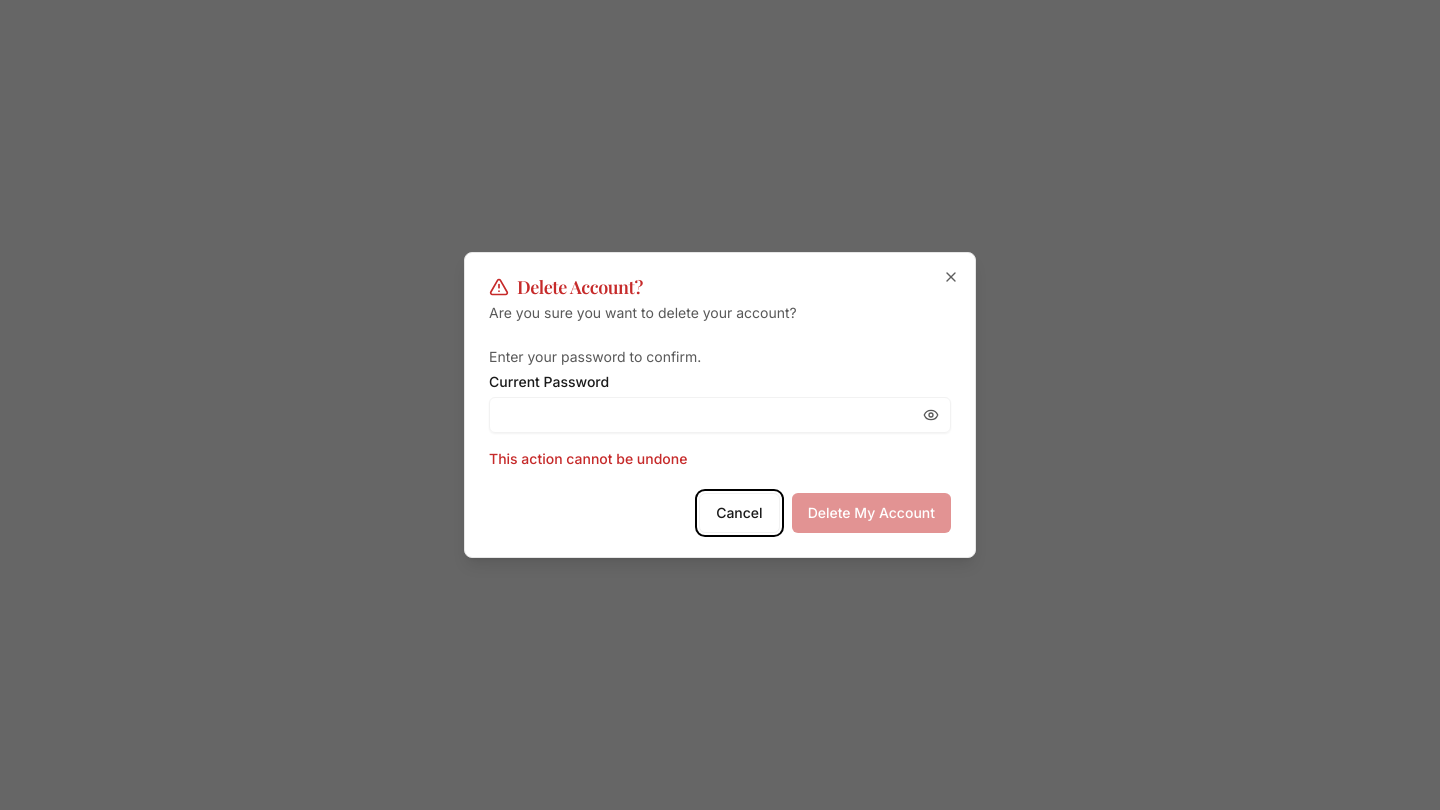
Test case: DeleteAccountDialog › shows the translated line for a refused deletion ({"status":422,"code":"invalid_project_disposition","kind":"client","name":"HttpError"})
This screenshot has width=1440, height=810.
Type "my-password" into the password field labelled "Current Password" at (720, 415), box [489,397,951,433]
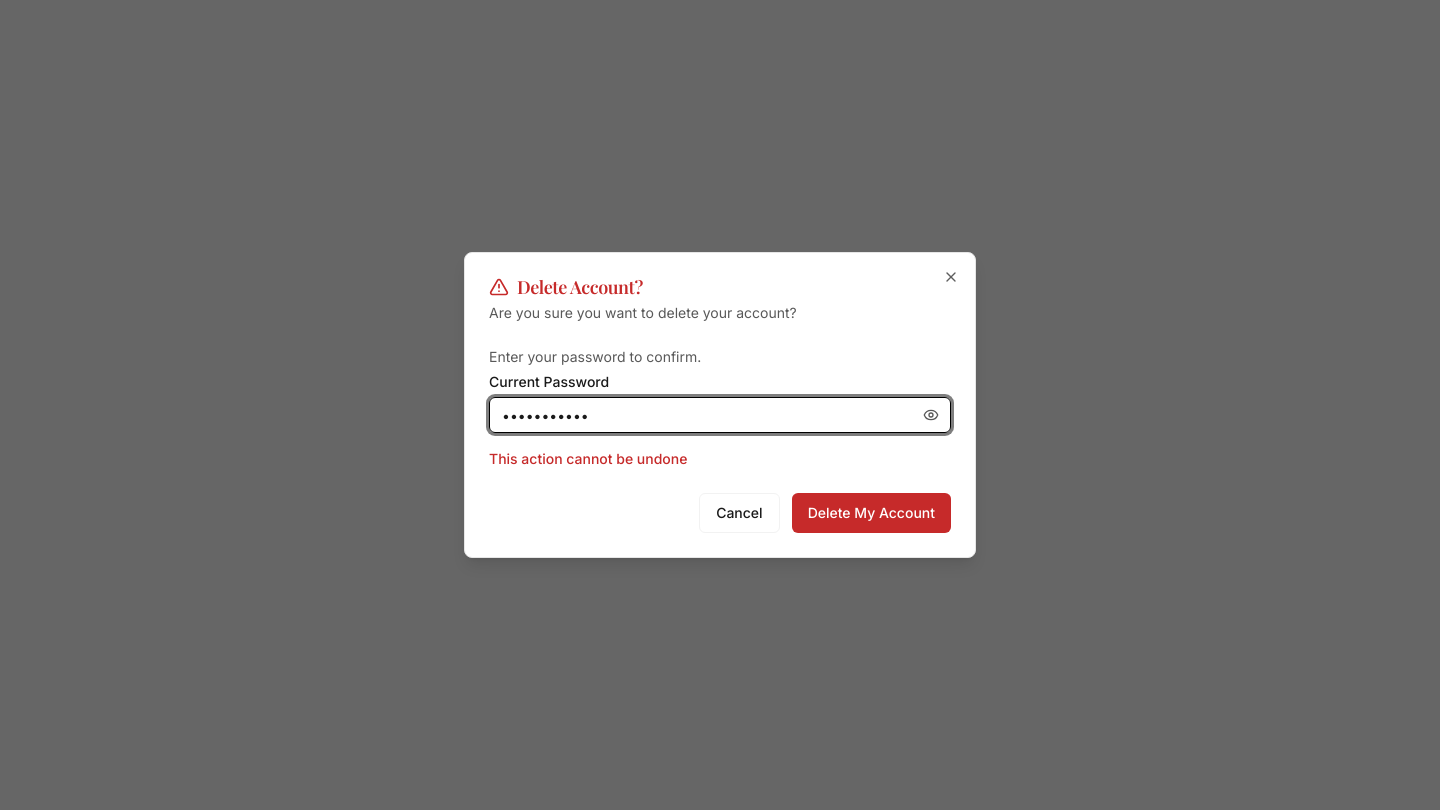
Check: the button "Delete My Account" is enabled
Click the button "Delete My Account" at (871, 513), box [792,493,951,533]
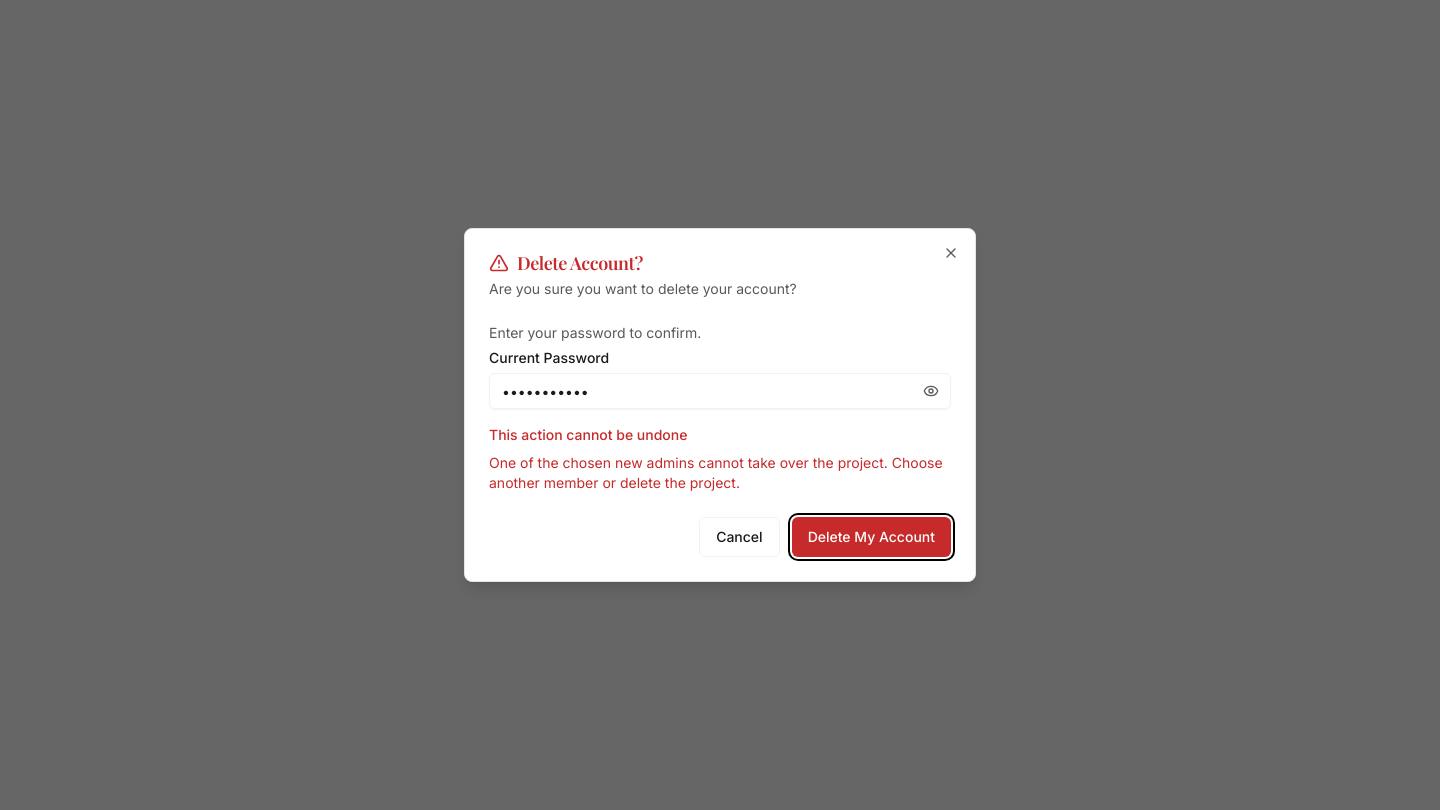
Check: the message shows "One of the chosen new admins cannot take over the project. Choose another member or delete the project.", box [489,454,943,491]
